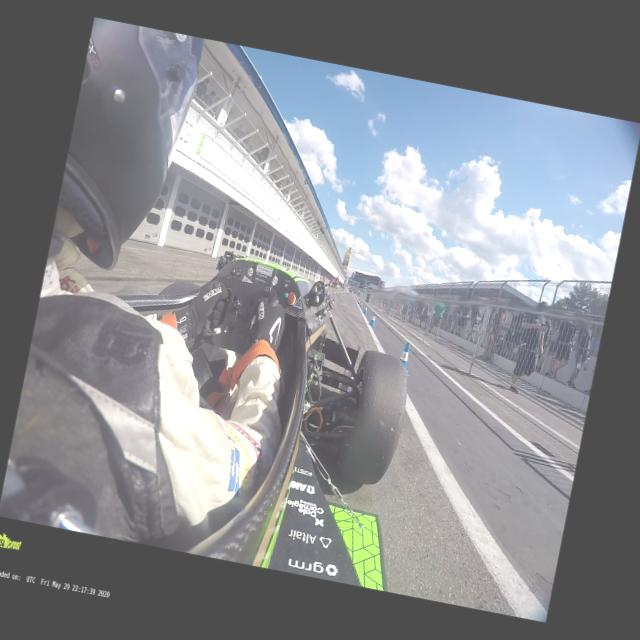blue_cone: (397, 342, 414, 376), (368, 312, 378, 327), (363, 304, 369, 315), (359, 300, 364, 308), (357, 298, 359, 303)
